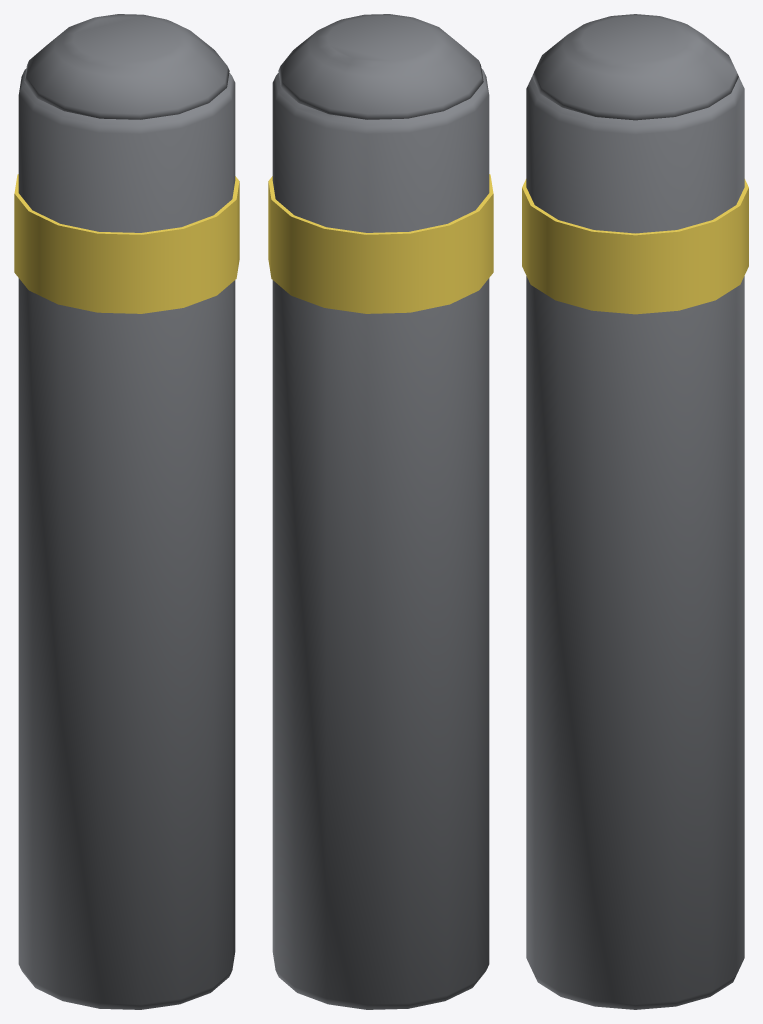
Rendered from bollard.glb.
3 renders of one model, left to right at view 1: azimuth 30°, elevation 25°; view 2: azimuth 150°, elevation 25°; view 3: azimuth 270°, elevation 25°, orthographic.
Parts seen in each view (by area): view 1: Body; view 2: Body; view 3: Body.
Part boxes in pixels (x1,y1,x2,y2): Body: (14,14,239,1009); Body: (268,14,493,1009); Body: (522,14,748,1009).
Bounding box in the file's own units: 0.208 × 0.94 × 0.208.
